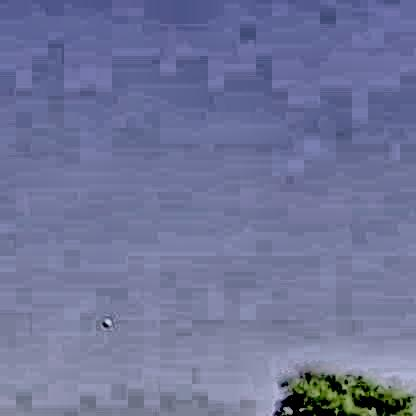golfball: (99, 315, 109, 325)
